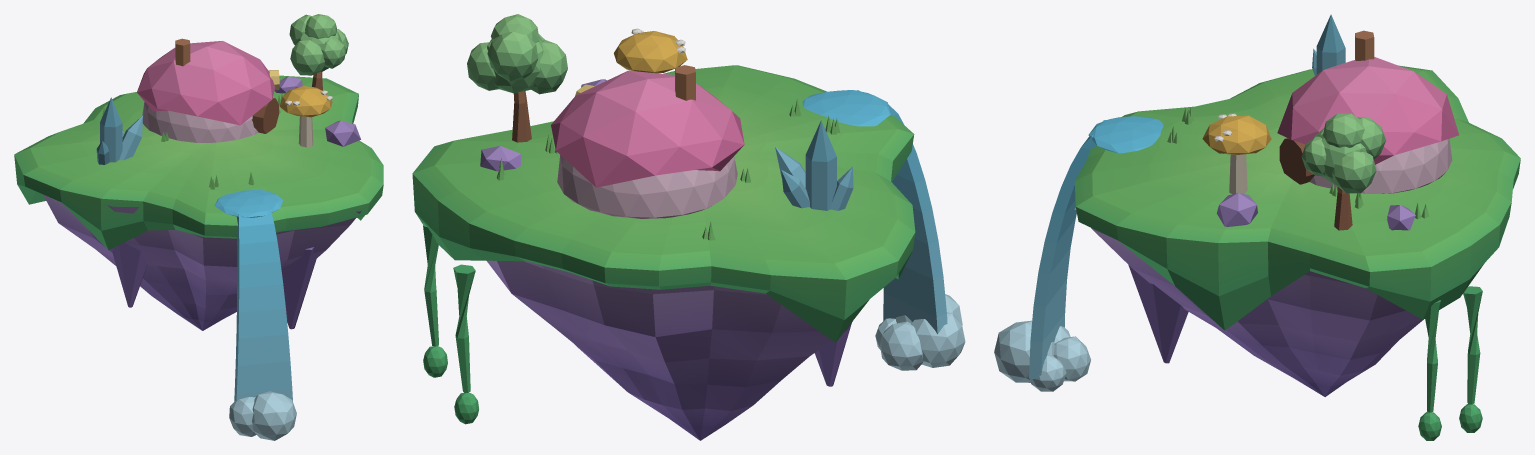
File: obby_island_village.fbx
3 views of the same model, side by side, from view 1: azimuth 30°, elevation 25°; view 2: azimuth 150°, elevation 25°; view 3: azimuth 270°, elevation 25° (orthographic). The views are drawn at different scales.
Parts seen in each view (by area): view 1: obby_island_village; view 2: obby_island_village; view 3: obby_island_village.
Part boxes in pixels (x1,y1,x2,y2): obby_island_village: [14, 14, 383, 440]; obby_island_village: [412, 14, 965, 440]; obby_island_village: [994, 14, 1520, 440].
Bounding box in the file's own units: 48.88 × 40.6 × 51.73.
